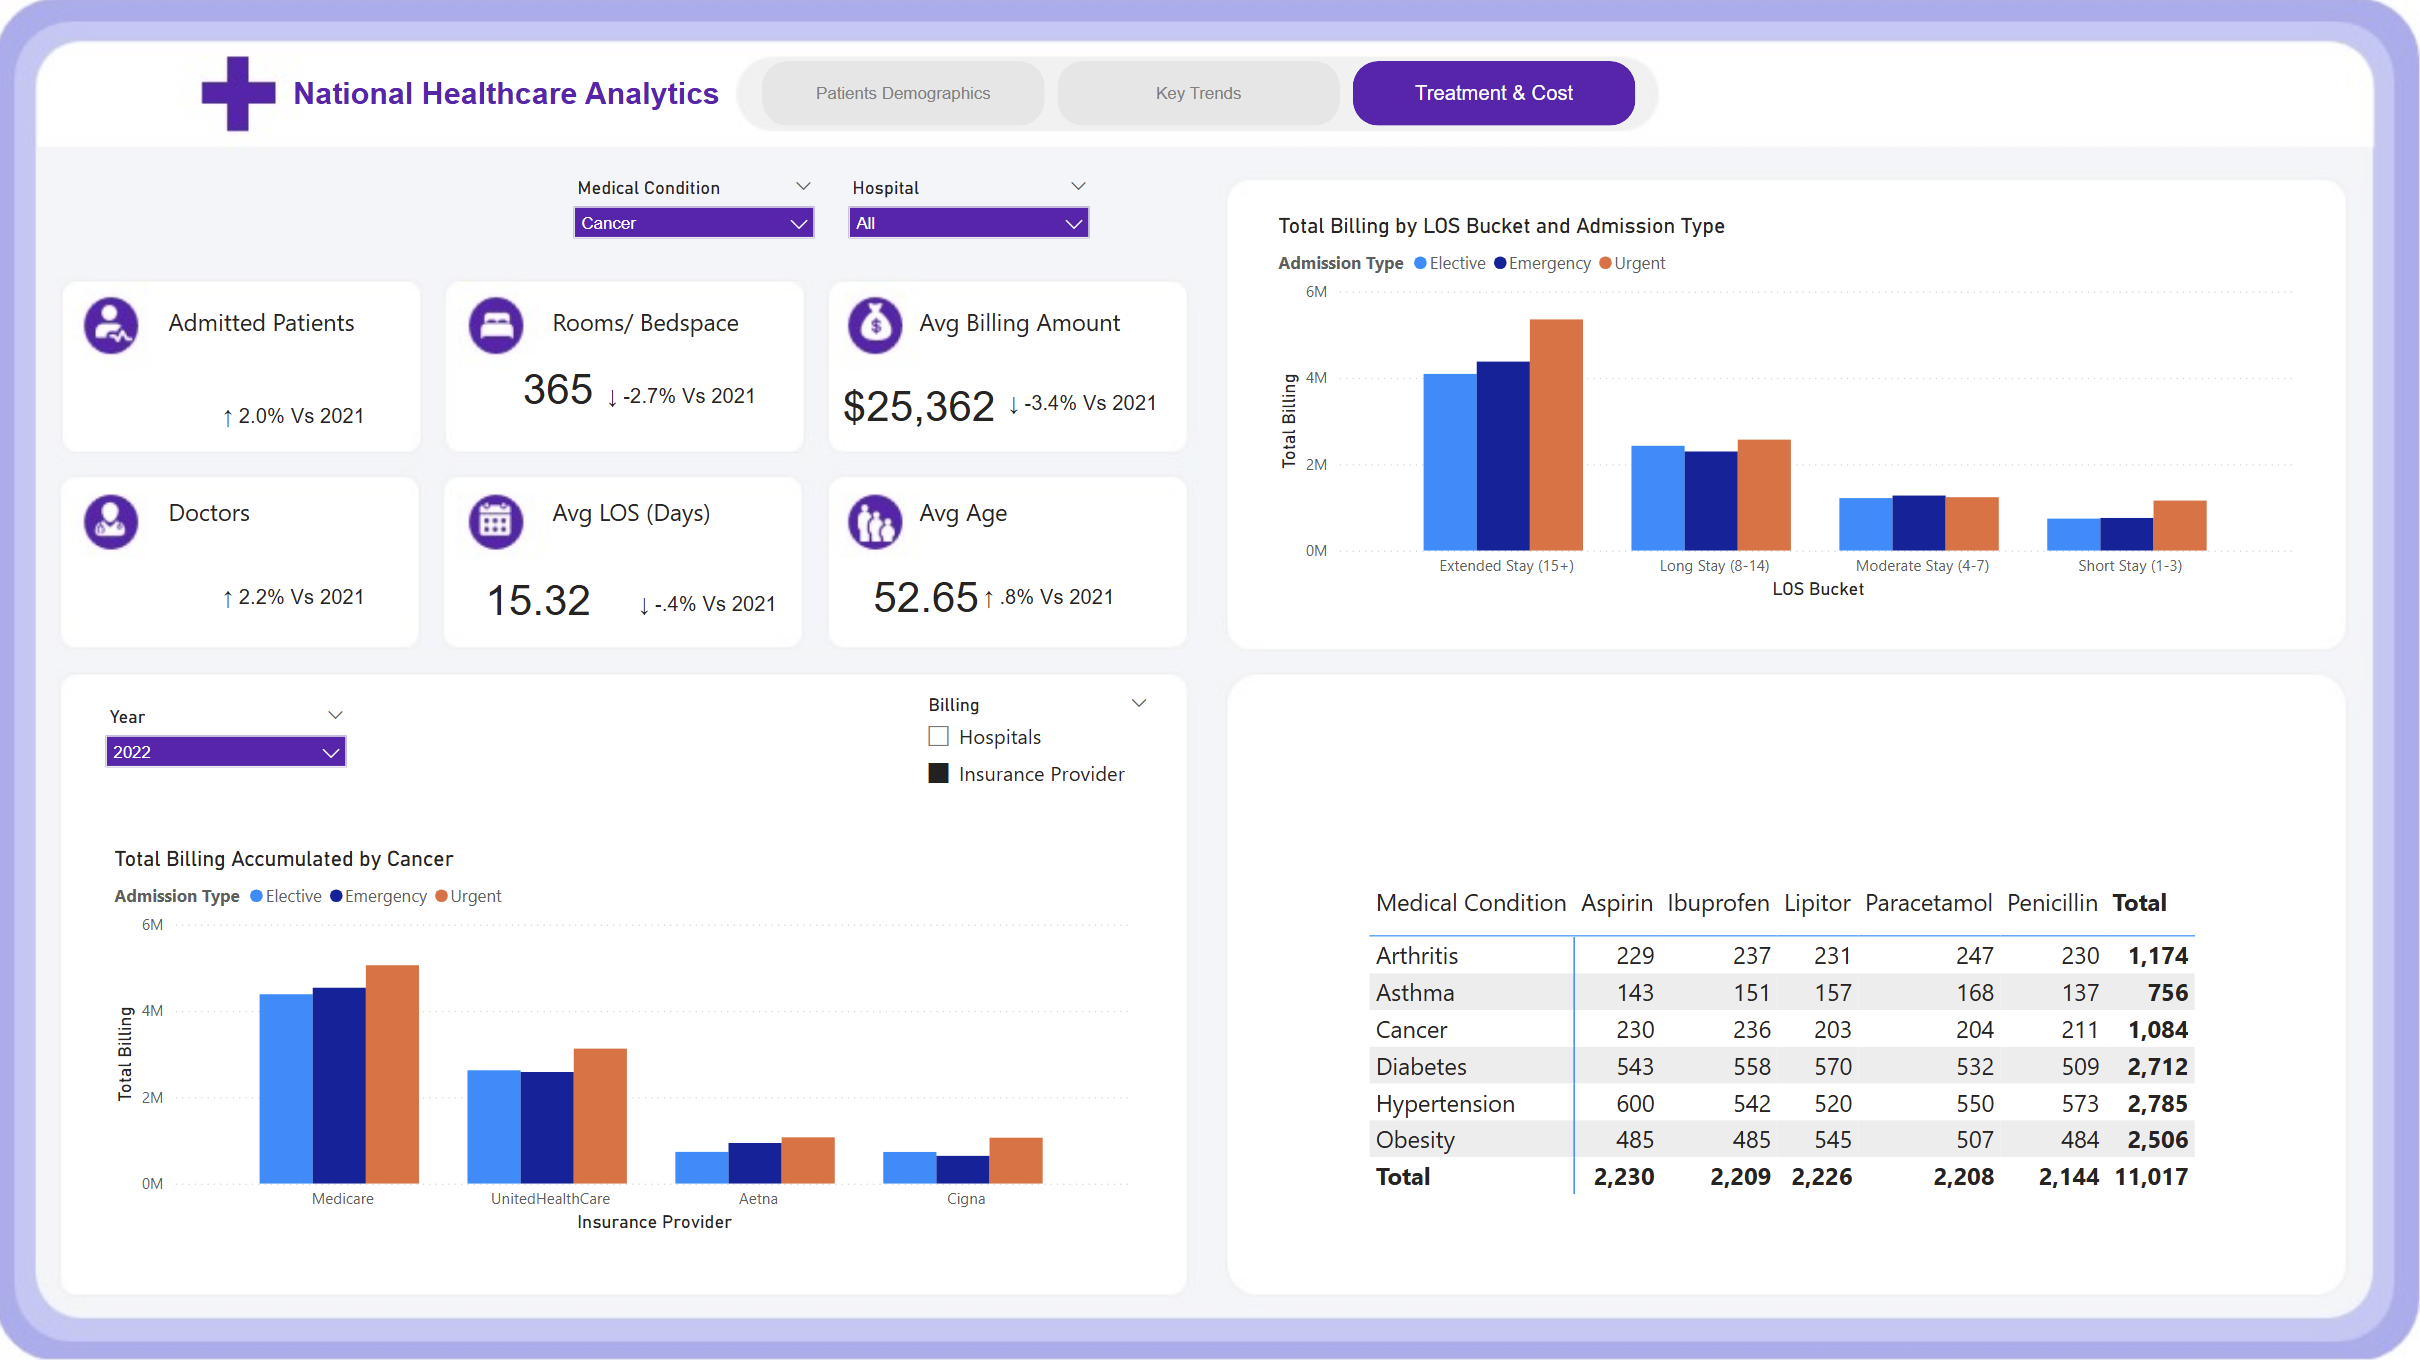

This screenshot's page, from the dashboard's own definition file:
{"tool":"powerbi","page":{"name":"Treatment & Cost","canvas":[1920,1080],"ordinal":2},"visuals":[{"type":"textbox","box":[133.4,240.7,198.4,42.3],"z":0},{"type":"textbox","box":[435.9,240.7,191.9,42.3],"z":1000},{"type":"textbox","box":[725.4,240.7,208.2,42.3],"z":2000},{"type":"textbox","box":[725.4,390.4,218,55.3],"z":3000},{"type":"textbox","box":[435.9,390.4,169.2,65.1],"z":4000},{"type":"textbox","box":[133.4,390.4,198.4,55.3],"z":5000},{"type":"card","fields":{"Values":["DAX.Rooms"]},"box":[337.6,263.7,216.3,94.9],"z":6000},{"type":"card","fields":{"Values":["DAX.Avg Billing Amt"]},"box":[622.4,269,216.3,110.8],"z":7000},{"type":"card","fields":{"Values":["DAX.Avg LOS"]},"box":[321.8,422,216.3,110.8],"z":8000},{"type":"card","fields":{"Values":["DAX.Average age"]},"box":[627.7,416.7,216.3,116],"z":9000},{"type":"card","fields":{"Values":["DAX.Adm YoY"]},"box":[137.1,295.4,200.4,79.1],"z":10000},{"type":"card","fields":{"Values":["DAX.Room YoY"]},"box":[458.9,279.6,168.8,79.1],"z":11000},{"type":"card","fields":{"Values":["DAX.Doc YoY"]},"box":[153,437.8,168.8,79.1],"z":12000},{"type":"card","fields":{"Values":["DAX.LOS YoY"]},"box":[464.2,443.1,200.4,79.1],"z":13000},{"type":"card","fields":{"Values":["DAX.Age YoY"]},"box":[733.2,437.8,200.4,79.1],"z":14000},{"type":"card","fields":{"Values":["DAX.Bill YoY"]},"box":[759.6,284.8,200.4,79.1],"z":15000},{"type":"slicer","fields":{"Values":["HealthData.Hospital"]},"box":[665.3,139.9,210.5,65.2],"z":16000},{"type":"slicer","fields":{"Values":["Calendar.Year"]},"box":[78.8,556.7,210.5,65.2],"z":17000},{"type":"clusteredColumnChart","fields":{"Category":["HealthData.LOS Bucket"],"Y":["DAX.Total Billing"],"Series":["HealthData.Admission Type"]},"box":[1008.9,172.4,813.4,309.6],"z":18000},{"type":"slicer","fields":{"Values":["Billing.Billing"]},"box":[725.1,547.2,198.2,149.4],"z":19000},{"type":"clusteredColumnChart","fields":{"Category":["HealthData.Insurance Provider"],"Y":["DAX.Total Billing"],"Series":["HealthData.Admission Type"]},"box":[91,672.1,813.4,309.6],"z":20000},{"type":"slicer","fields":{"Values":["DimCondition.Medical Condition"]},"box":[448.1,139.9,210.5,65.2],"z":20001},{"type":"pivotTable","fields":{"Rows":["DimCondition.Medical Condition"],"Columns":["HealthData.Medication"],"Values":["DAX.Admitted Patients"]},"box":[1080.8,696.6,703.4,259.3],"z":20002},{"type":"pageNavigator","box":[607,53,691.1,51.6],"z":20003},{"type":"textbox","box":[232.2,59.7,482,50.2],"z":20005}]}

Visuals, with their boxes in screenshot pixels (x1, y1, x2, y2), scaled from the page's 1920x1080 canvas onto the 2420x1360 screenshot:
textbox: <box>168,303,418,356</box>
textbox: <box>549,303,791,356</box>
textbox: <box>914,303,1177,356</box>
textbox: <box>914,492,1189,561</box>
textbox: <box>549,492,763,574</box>
textbox: <box>168,492,418,561</box>
card - DAX.Rooms: <box>426,332,698,452</box>
card - DAX.Avg Billing Amt: <box>784,339,1057,478</box>
card - DAX.Avg LOS: <box>406,531,678,671</box>
card - DAX.Average age: <box>791,525,1064,671</box>
card - DAX.Adm YoY: <box>173,372,425,472</box>
card - DAX.Room YoY: <box>578,352,791,452</box>
card - DAX.Doc YoY: <box>193,551,406,651</box>
card - DAX.LOS YoY: <box>585,558,838,658</box>
card - DAX.Age YoY: <box>924,551,1177,651</box>
card - DAX.Bill YoY: <box>957,359,1210,458</box>
slicer - HealthData.Hospital: <box>839,176,1104,258</box>
slicer - Calendar.Year: <box>99,701,365,783</box>
clusteredColumnChart - HealthData.LOS Bucket x DAX.Total Billing: <box>1272,217,2297,607</box>
slicer - Billing.Billing: <box>914,689,1164,877</box>
clusteredColumnChart - HealthData.Insurance Provider x DAX.Total Billing: <box>115,846,1140,1236</box>
slicer - DimCondition.Medical Condition: <box>565,176,830,258</box>
pivotTable - DimCondition.Medical Condition x HealthData.Medication: <box>1362,877,2249,1204</box>
pageNavigator: <box>765,67,1636,132</box>
textbox: <box>293,75,900,138</box>
